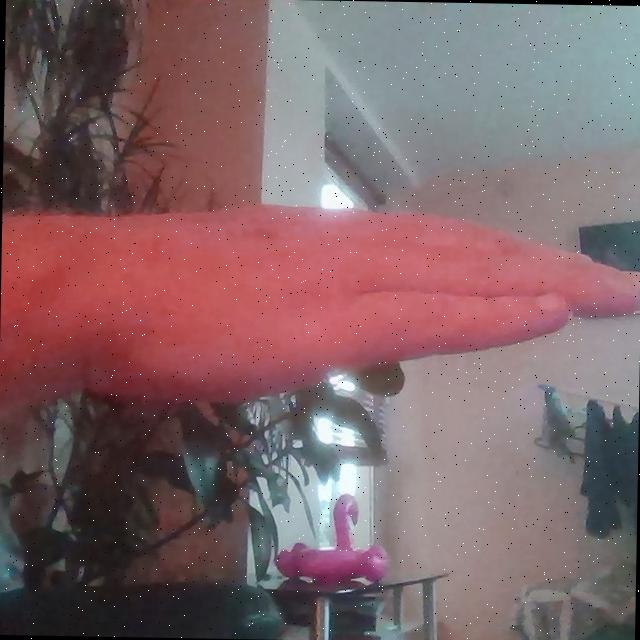papper: (41, 188, 640, 426)
